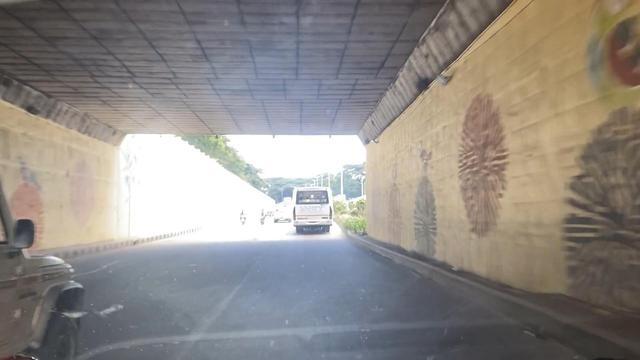HMV: (290, 190, 328, 234)
RoadDamages: (219, 253, 267, 318)
